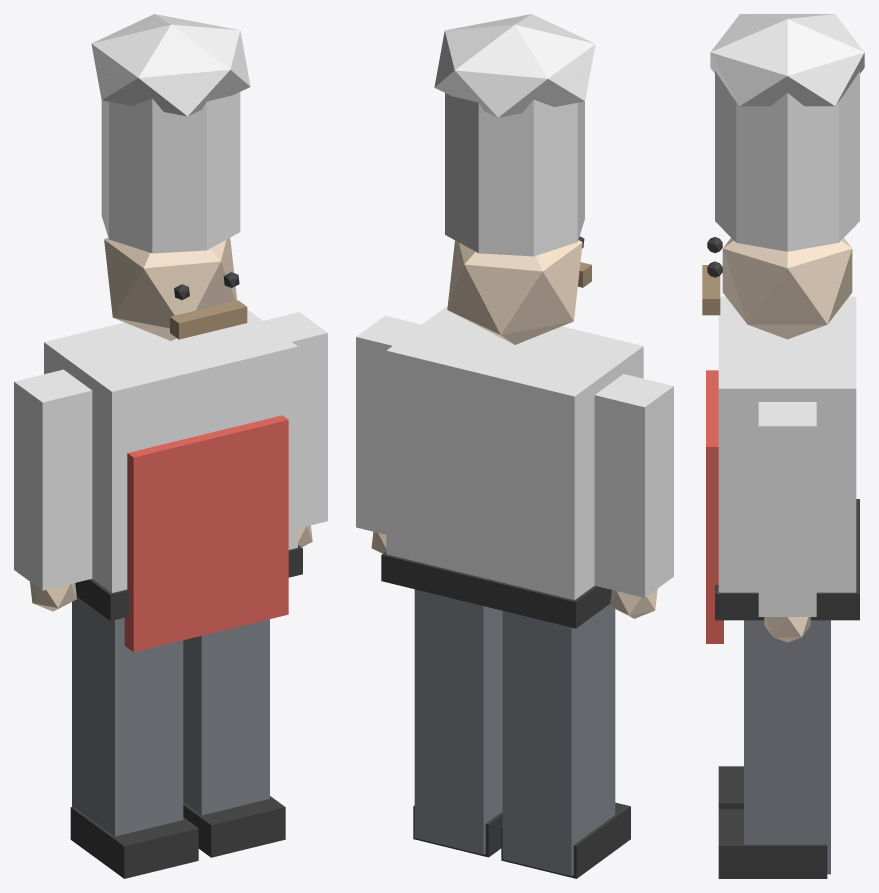
File: VendorChef.fbx
The picture shows the model from 3 angles, left to right: view 1: azimuth 30°, elevation 25°; view 2: azimuth 150°, elevation 25°; view 3: azimuth 270°, elevation 25°; orthographic projection.
Parts seen in each view (by area): view 1: Body, Part_Head, Part_LegL, Part_LegR, Part_ArmL, Part_ArmR; view 2: Body, Part_Head, Part_LegL, Part_LegR, Part_ArmL, Part_ArmR; view 3: Part_Head, Body, Part_LegR, Part_ArmR, Part_LegL.
Boxes of the visible parts, x1=… form: Body: x1=44, y1=309, x2=302, y2=652; Part_Head: x1=91, y1=14, x2=250, y2=340; Part_LegL: x1=70, y1=596, x2=198, y2=878; Part_LegR: x1=183, y1=619, x2=285, y2=857; Part_ArmL: x1=14, y1=369, x2=92, y2=611; Part_ArmR: x1=263, y1=312, x2=327, y2=547; Body: x1=381, y1=306, x2=643, y2=628; Part_Head: x1=434, y1=14, x2=595, y2=344; Part_LegL: x1=501, y1=604, x2=630, y2=878; Part_LegR: x1=413, y1=589, x2=502, y2=857; Part_ArmL: x1=594, y1=374, x2=673, y2=618; Part_ArmR: x1=356, y1=315, x2=421, y2=553; Part_Head: x1=702, y1=14, x2=864, y2=339; Body: x1=706, y1=296, x2=859, y2=643; Part_LegR: x1=718, y1=620, x2=830, y2=878; Part_ArmR: x1=758, y1=402, x2=816, y2=642; Part_LegL: x1=718, y1=766, x2=743, y2=809.
Bounding box in the file's own units: 0.92 × 2.5 × 0.4477.
